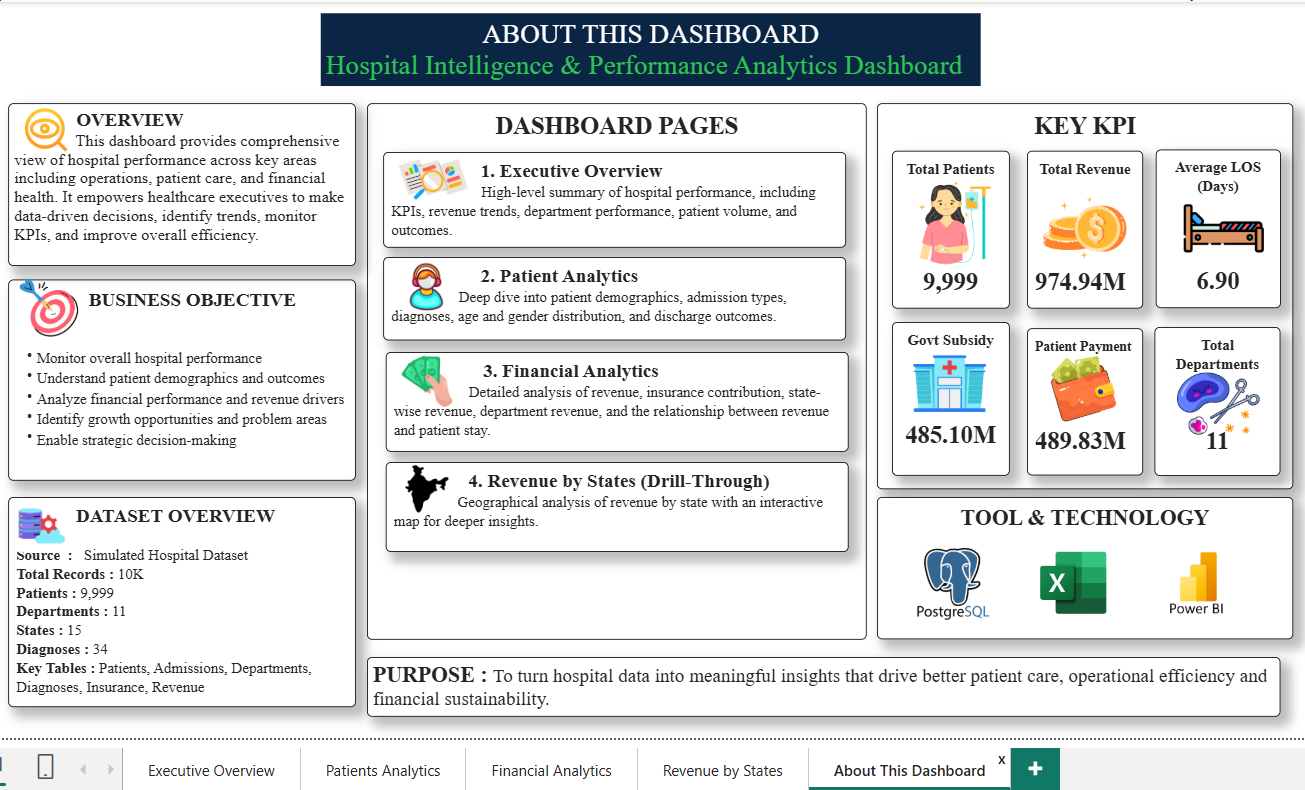

This screenshot's page, from the dashboard's own definition file:
{"tool":"powerbi","page":{"name":"About This Dashboard","canvas":[1280,720],"ordinal":4},"visuals":[{"type":"textbox","box":[316.7,11,645.7,70.9],"z":0},{"type":"textbox","box":[11,99,339.9,159],"z":1000,"group":"g1"},{"type":"textbox","box":[11,271.5,339.9,196.9],"z":1000},{"type":"textbox","box":[11,484.2,339.9,205.4],"z":2000},{"type":"textbox","box":[362,99,489.1,524.6],"z":3000},{"type":"textbox","box":[377.9,147,452.4,93.9],"z":4000},{"type":"textbox","box":[377.9,249.5,452.4,81.9],"z":5000},{"type":"textbox","box":[380.3,342.4,452.4,97.8],"z":6000},{"type":"textbox","box":[380.3,450,452.4,88],"z":7000},{"type":"group","id":"g1","title":"Group 1","box":[11,99,339.9,159],"z":8000},{"type":"image","box":[18.3,99,59.9,52.6],"z":9000},{"type":"image","box":[18.3,266.6,64.8,64.8],"z":10000},{"type":"image","box":[18.3,486.7,51.4,51.4],"z":11000},{"type":"image","box":[390.1,135.7,73.4,75.8],"z":12000},{"type":"image","box":[390.1,249.5,59.9,58.7],"z":13000},{"type":"image","box":[384,342.4,73.4,57.5],"z":14000},{"type":"image","box":[384,450,73.4,52.6],"z":15000},{"type":"textbox","box":[860.9,99,407.2,377.9],"z":16000},{"type":"textbox","box":[875.5,146.7,156.5,226.2],"z":17000},{"type":"textbox","box":[875.5,145.5,114.9,154.1],"z":18000},{"type":"image","box":[891.4,160.2,91.7,111.3],"z":19000},{"type":"textbox","box":[1007.6,145.5,113.7,154.1],"z":20000},{"type":"image","box":[1018.6,171.2,91.7,100.3],"z":21000},{"type":"textbox","box":[1133.6,144.3,122.3,155.3],"z":22000},{"type":"image","box":[1120.1,182.2,160.2,78.3],"z":23000},{"type":"textbox","box":[875.5,313,114.9,150.4],"z":24000},{"type":"image","box":[891.4,319.2,80.7,107.6],"z":25000},{"type":"textbox","box":[1007.6,319.2,113.7,144.3],"z":26000},{"type":"image","box":[1015,344.8,95.4,67.3],"z":27000},{"type":"textbox","box":[1132.3,317.9,123.5,145.5],"z":28000},{"type":"image","box":[1154.4,346.1,80.7,94.2],"z":29000},{"type":"textbox","box":[860.9,484.2,407.2,139.4],"z":30000},{"type":"image","box":[898.8,527,73.4,83.2],"z":31000},{"type":"image","box":[1007.6,534.4,90.5,68.5],"z":32000},{"type":"image","box":[1120.1,514.8,108.8,106.4],"z":33000},{"type":"textbox","box":[362,640.8,893.9,58.7],"z":34000}]}

Visuals, with their boxes on the page's 1280x720 design canvas (x1, y1, x2, y2). These are canvas units, not pixel positions in the 1305x790 screenshot, which may show the page scaled, cropped or inside an application window:
textbox: 317,11,962,82
textbox: 11,99,351,258
textbox: 11,272,351,468
textbox: 11,484,351,690
textbox: 362,99,851,624
textbox: 378,147,830,241
textbox: 378,250,830,331
textbox: 380,342,833,440
textbox: 380,450,833,538
"Group 1" group: 11,99,351,258
image: 18,99,78,152
image: 18,267,83,331
image: 18,487,70,538
image: 390,136,464,212
image: 390,250,450,308
image: 384,342,457,400
image: 384,450,457,503
textbox: 861,99,1268,477
textbox: 876,147,1032,373
textbox: 876,146,990,300
image: 891,160,983,272
textbox: 1008,146,1121,300
image: 1019,171,1110,272
textbox: 1134,144,1256,300
image: 1120,182,1280,260
textbox: 876,313,990,463
image: 891,319,972,427
textbox: 1008,319,1121,464
image: 1015,345,1110,412
textbox: 1132,318,1256,463
image: 1154,346,1235,440
textbox: 861,484,1268,624
image: 899,527,972,610
image: 1008,534,1098,603
image: 1120,515,1229,621
textbox: 362,641,1256,700
